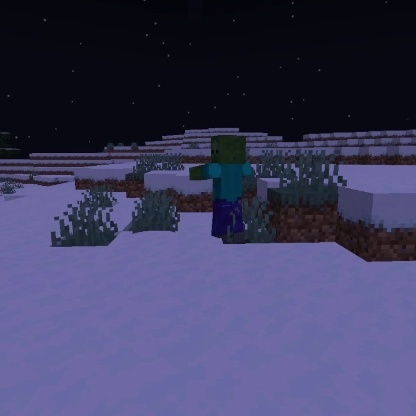zombie: (185, 132, 257, 242)
